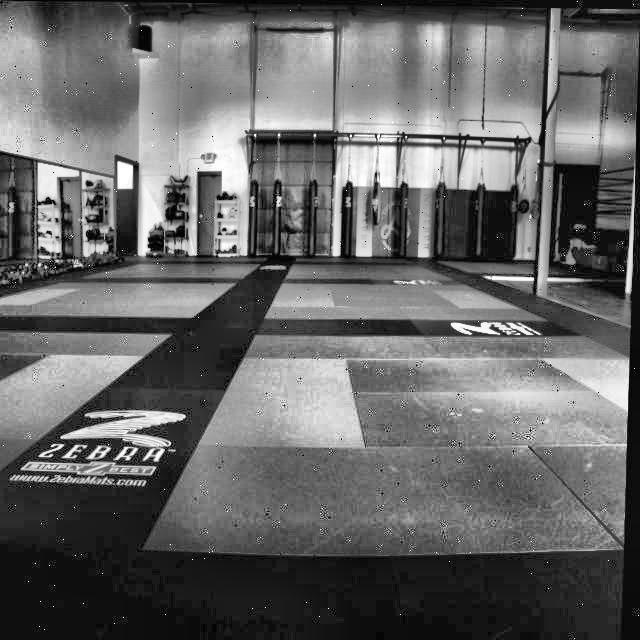boxing-bag: (342, 132, 356, 258), (273, 131, 286, 259), (308, 130, 320, 258), (436, 133, 448, 257), (509, 135, 521, 258), (249, 134, 260, 258), (477, 136, 488, 256), (400, 136, 410, 258), (373, 132, 385, 225)
